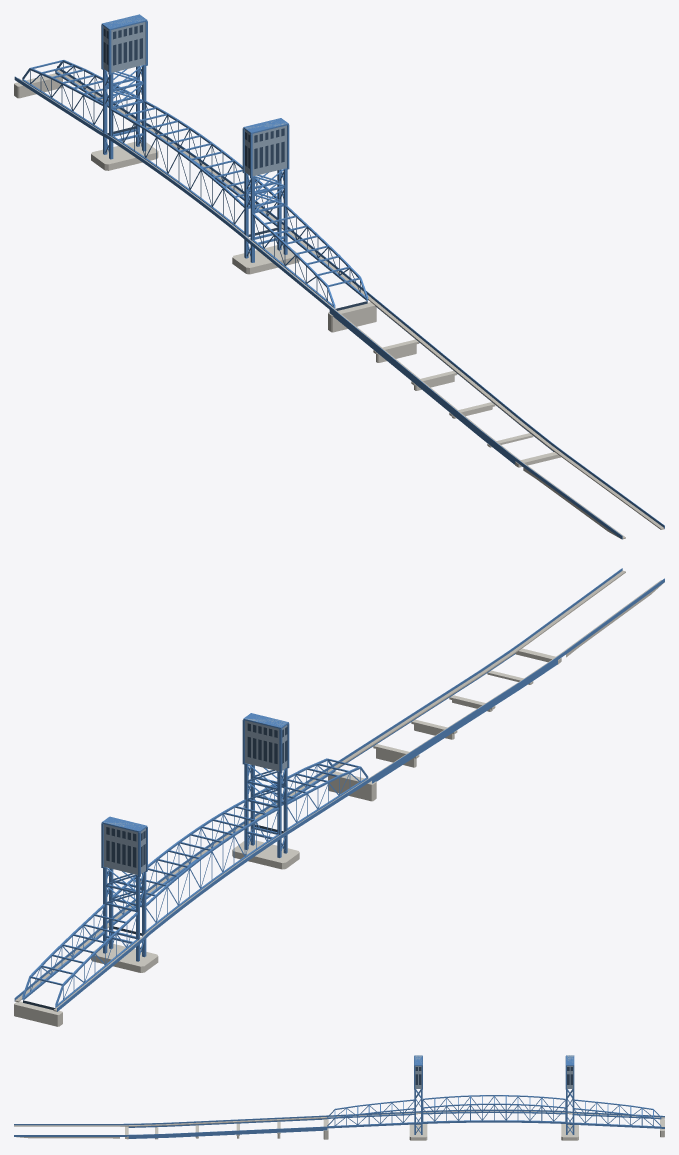
The model's file is jax-main-street-bridge.glb.
The picture shows the model from 3 angles, top to bottom: view 1: azimuth 30°, elevation 25°; view 2: azimuth 150°, elevation 25°; view 3: azimuth 270°, elevation 25°; orthographic projection. The views are drawn at different scales.
Visible parts, largest first — view 1: Main Street Bridge; view 2: Main Street Bridge; view 3: Main Street Bridge.
Part boxes in pixels (left/top/right/bottom): Main Street Bridge: left=14, top=14, right=664, bottom=539; Main Street Bridge: left=14, top=568, right=664, bottom=1026; Main Street Bridge: left=14, top=1055, right=664, bottom=1140.
Size of the model in its own units: 26 by 63.6 by 511.
